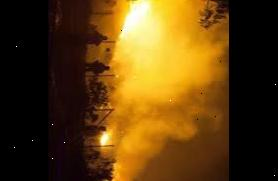fire: (114, 0, 156, 52), (94, 127, 125, 181)
